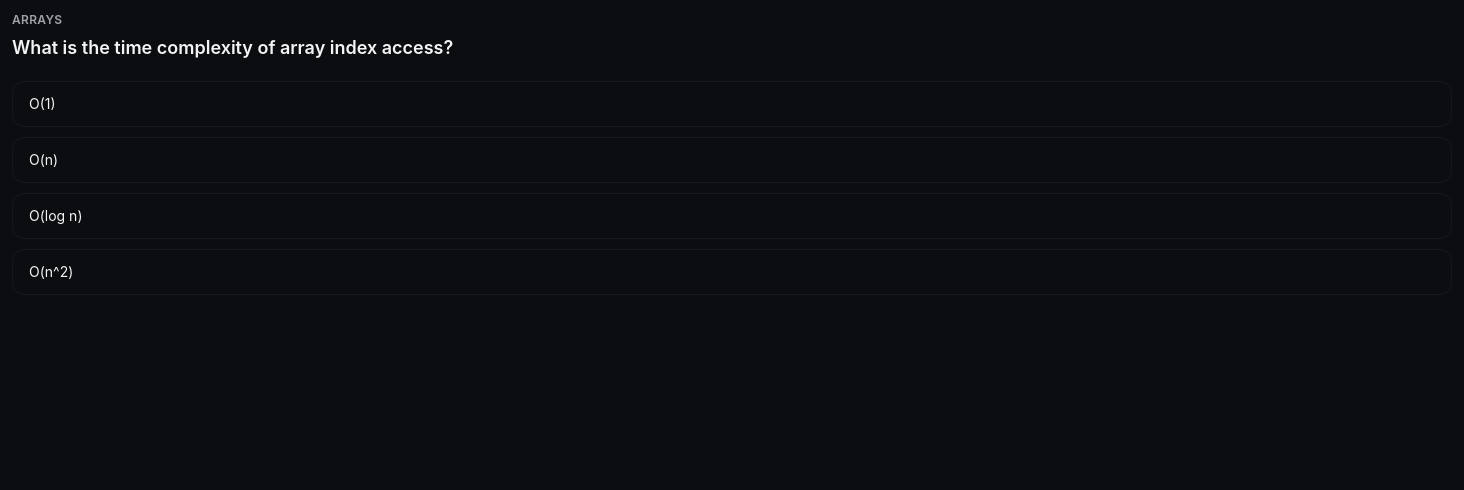
Test: DailyQuickQuiz › shows the correct answer after a wrong choice
This screenshot has width=1464, height=490.
Click the button "O(n)" at (44, 159), box [12,137,1452,183]
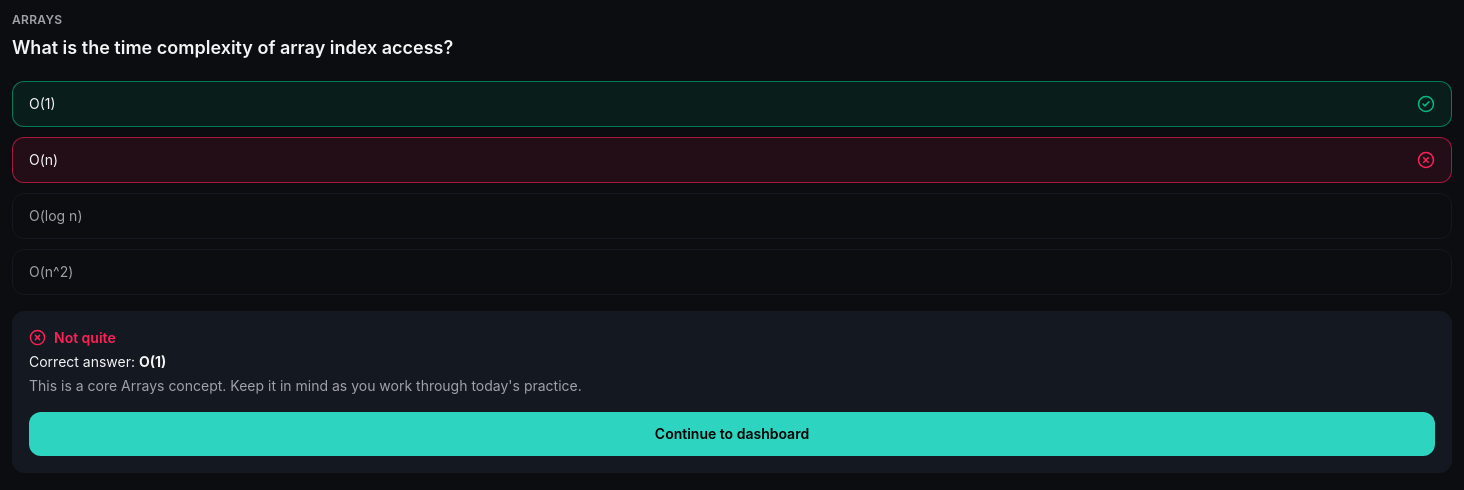
Expected: the text "Not quite" is shown, [29,329,116,346]
Expected: the text "Correct answer: O(1)" is shown, [29,353,166,370]
